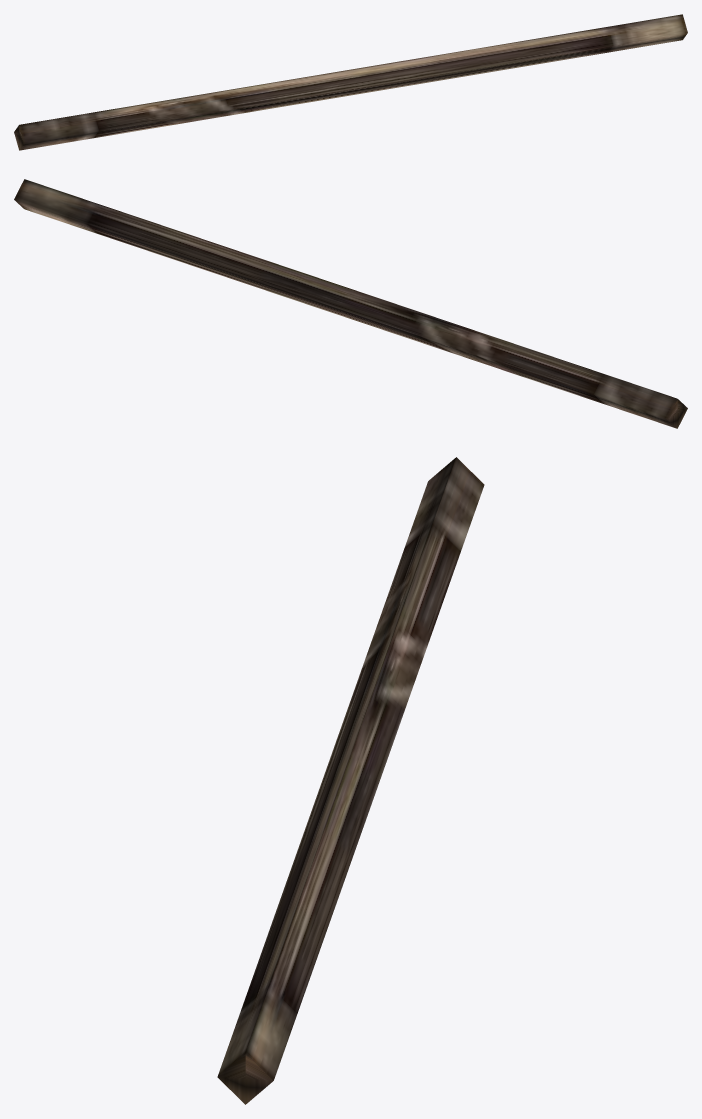
Rendered from jjj08.obj.
3 views of the same model, one above another, from view 1: azimuth 30°, elevation 25°; view 2: azimuth 150°, elevation 25°; view 3: azimuth 270°, elevation 25° (orthographic). The views are drawn at different scales.
Visible parts, largest first — view 1: jjj08; view 2: jjj08; view 3: jjj08.
Part boxes in pixels (x1,y1,x2,y2): jjj08: [14, 14, 687, 150]; jjj08: [14, 179, 687, 428]; jjj08: [217, 457, 484, 1104].
Size of the model in its own units: 99.49 by 4 by 18.74.
